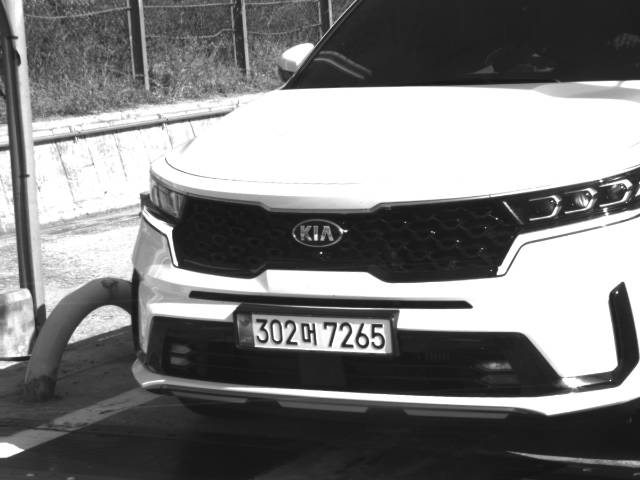car: (125, 1, 640, 446)
plate: (233, 310, 396, 357)
